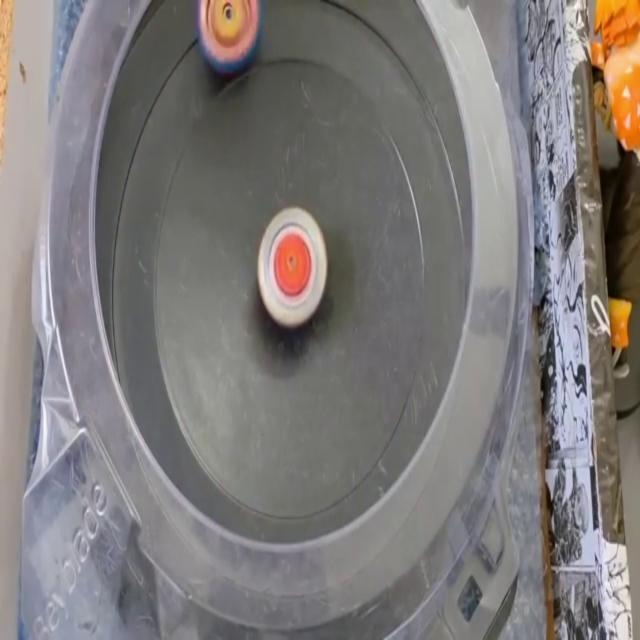Beyblade: (257, 206, 328, 330), (196, 0, 262, 71)
